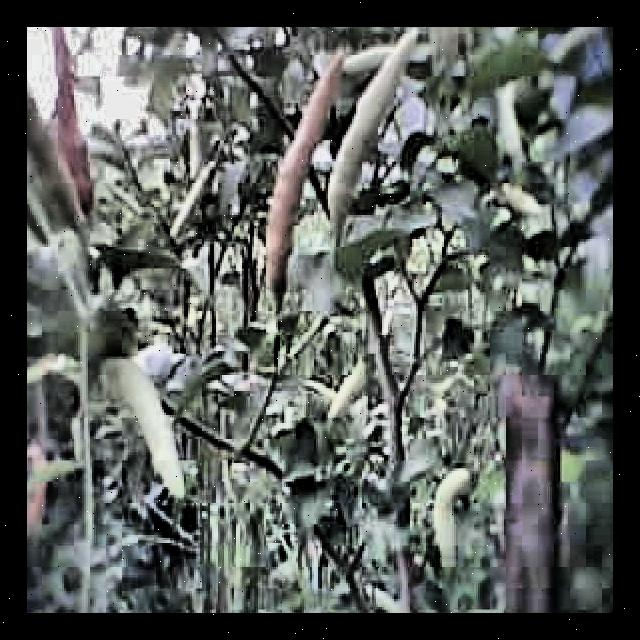Cabai: (260, 53, 322, 303), (39, 27, 119, 197)
